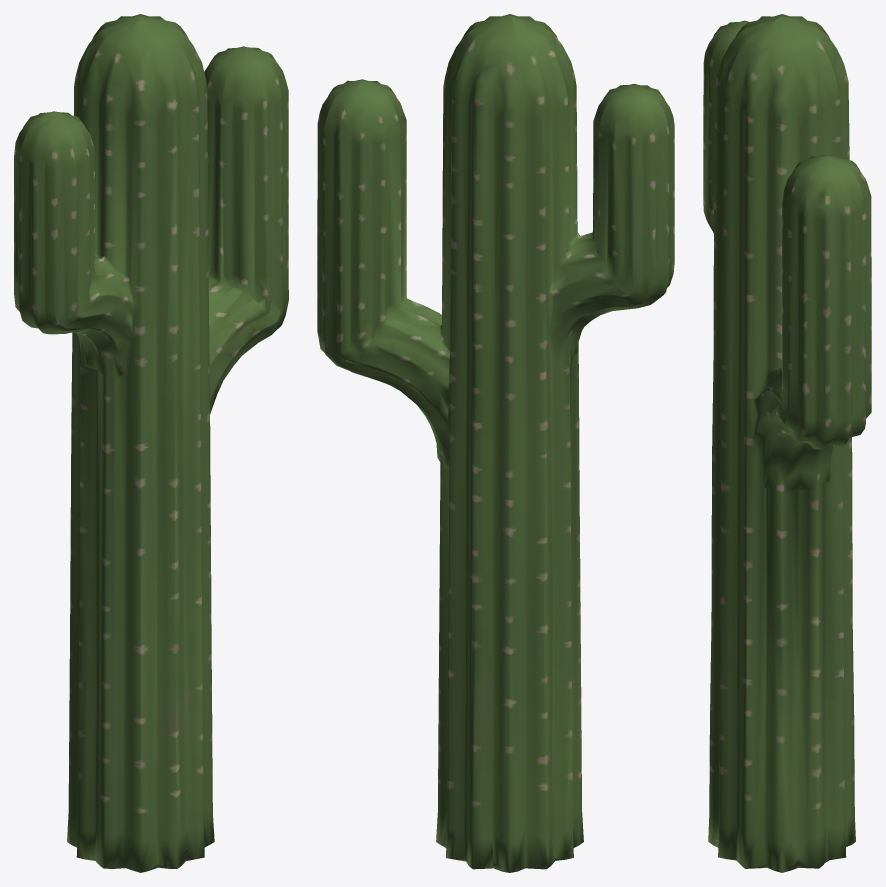
The model's file is frontier-yard-two-arm-loft.glb.
The picture shows the model from 3 angles, left to right: view 1: azimuth 30°, elevation 25°; view 2: azimuth 150°, elevation 25°; view 3: azimuth 270°, elevation 25°; orthographic projection.
Visible parts, largest first — view 1: cactus-yard-loft; view 2: cactus-yard-loft; view 3: cactus-yard-loft.
Part boxes in pixels (box(x1,y1,x2,y2)): cactus-yard-loft: box(14, 14, 288, 872); cactus-yard-loft: box(317, 14, 674, 872); cactus-yard-loft: box(703, 14, 871, 872).
Size of the model in its own units: 0.8558 by 2.22 by 0.4098.
1 material, 1 textured.
